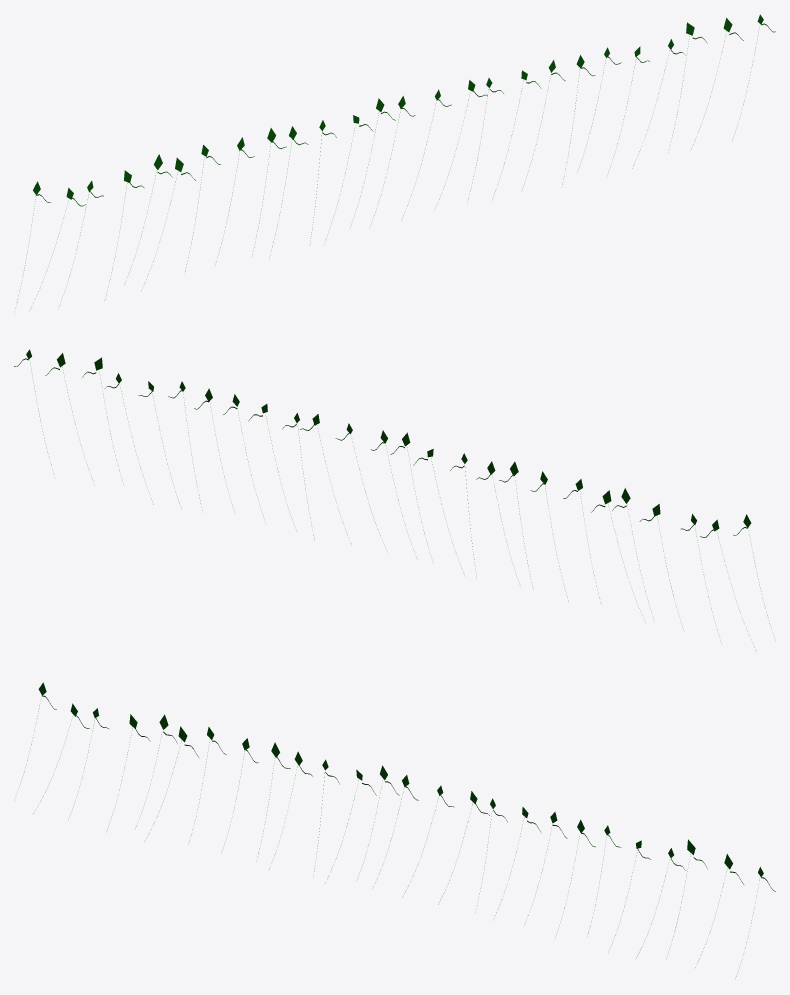
Rendered from kite_line.glb.
3 renders of one model, top to bottom at view 1: azimuth 30°, elevation 25°; view 2: azimuth 150°, elevation 25°; view 3: azimuth 330°, elevation 25°, orthographic.
Parts seen in each view (by area): view 1: kite_line; view 2: kite_line; view 3: kite_line.
Boxes of the visible parts, x1,y1,x2,y2 form: kite_line: (17,14,775,309); kite_line: (14,349,769,647); kite_line: (24,682,775,976).
Size of what is drawn, in the model's own units: 82.66 by 14.19 by 1.63.
